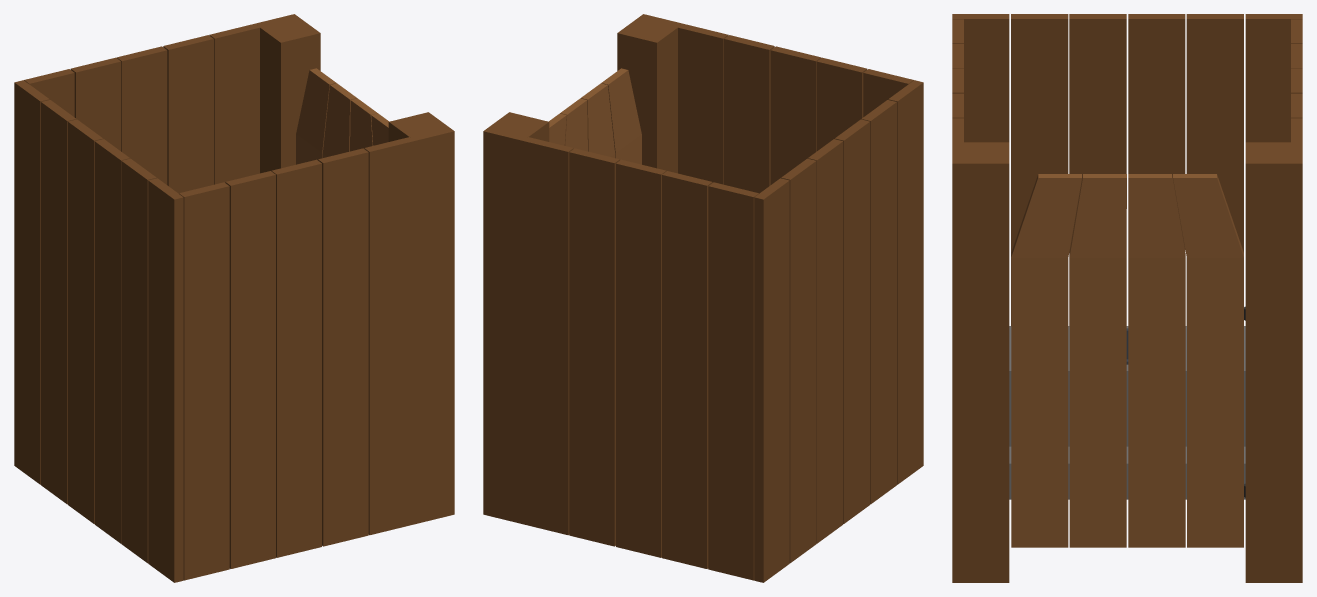
The model's file is WoodWc.fbx.
3 renders of one model, left to right at view 1: azimuth 30°, elevation 25°; view 2: azimuth 150°, elevation 25°; view 3: azimuth 270°, elevation 25°, orthographic. The views are drawn at different scales.
Visible parts, largest first — view 1: Cube_004, Cube_020; view 2: Cube_004, Cube_020; view 3: Cube_004, Cube_020.
Boxes of the visible parts, box(x1,y1,x2,y2) form: Cube_004: box(14, 14, 454, 582); Cube_020: box(296, 68, 388, 164); Cube_004: box(483, 14, 923, 582); Cube_020: box(549, 68, 641, 164); Cube_004: box(952, 14, 1302, 582); Cube_020: box(1011, 174, 1245, 547).
Bounding box in the file's own units: 4.16 × 5.44 × 4.12.
